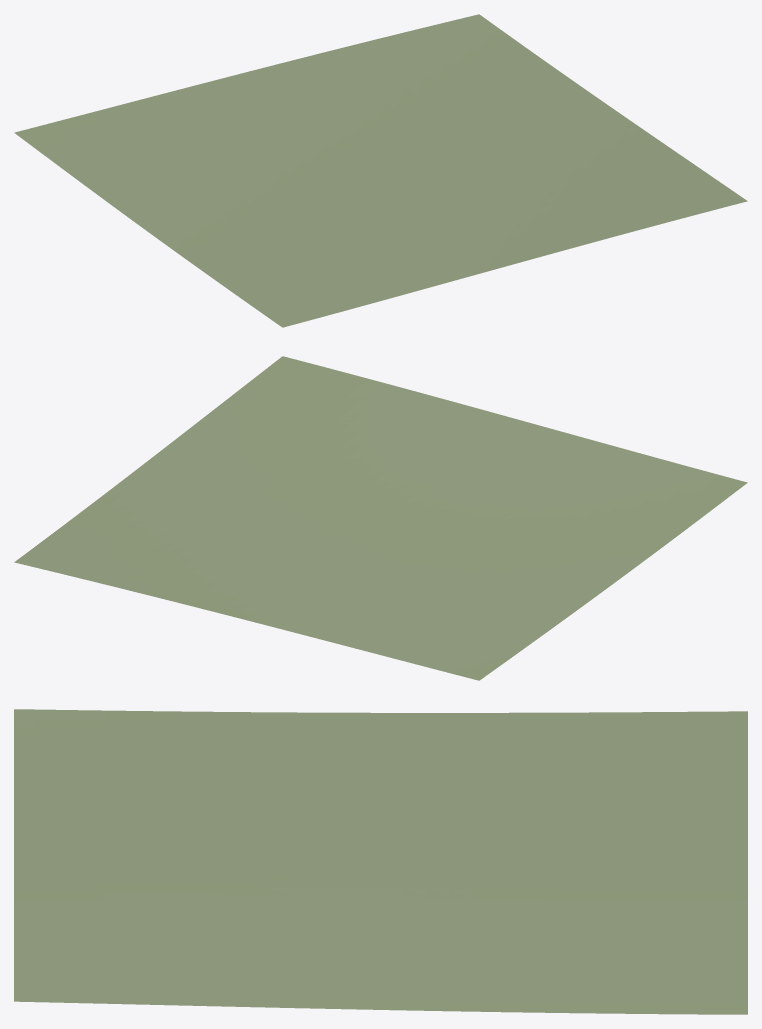
Rendered from expanse-11-0.glb.
3 views of the same model, one above another, from view 1: azimuth 30°, elevation 25°; view 2: azimuth 150°, elevation 25°; view 3: azimuth 270°, elevation 25° (orthographic). The views are drawn at different scales.
Parts seen in each view (by area): view 1: expanse-11-0; view 2: expanse-11-0; view 3: expanse-11-0.
Part boxes in pixels (x1=…): expanse-11-0: x1=14, y1=14, x2=747, y2=327; expanse-11-0: x1=14, y1=356, x2=747, y2=680; expanse-11-0: x1=14, y1=709, x2=747, y2=1014.
Size of the model in its own units: 256 by 8.24 by 256.
